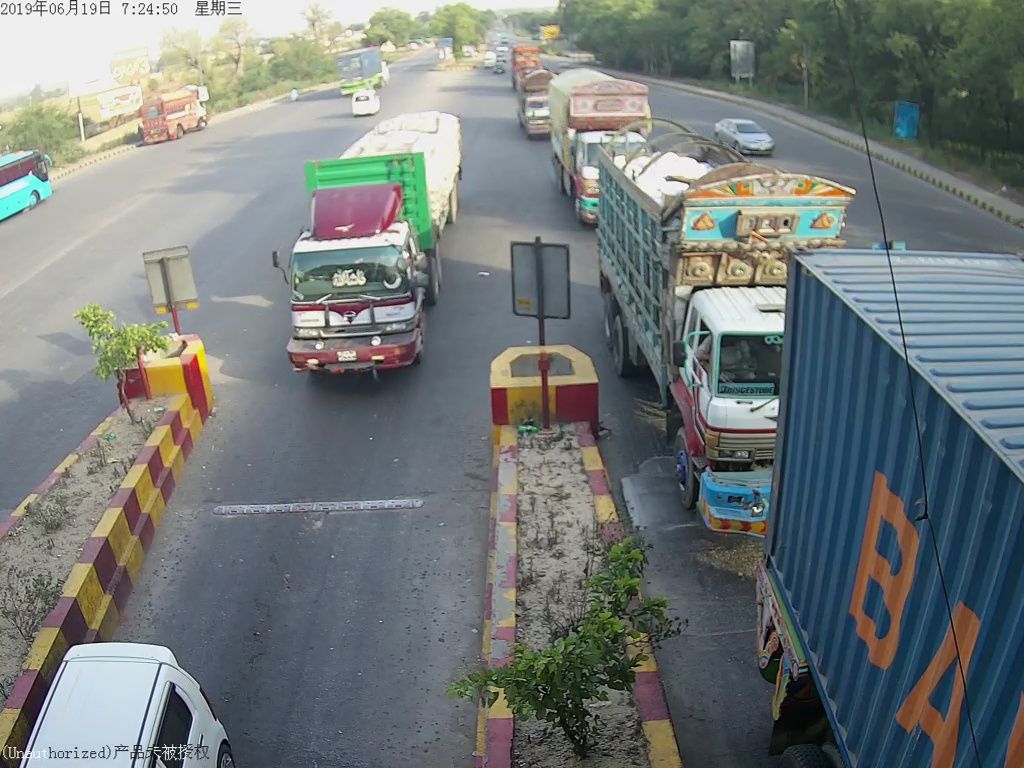Cat-4: (603, 150, 764, 540)
Cat-5: (274, 110, 460, 382)
